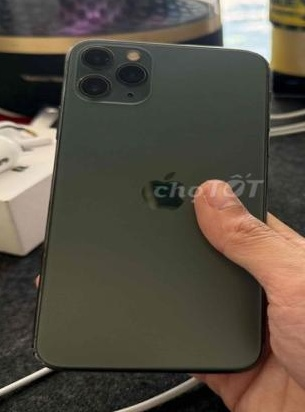scratch: (102, 52, 122, 67)
